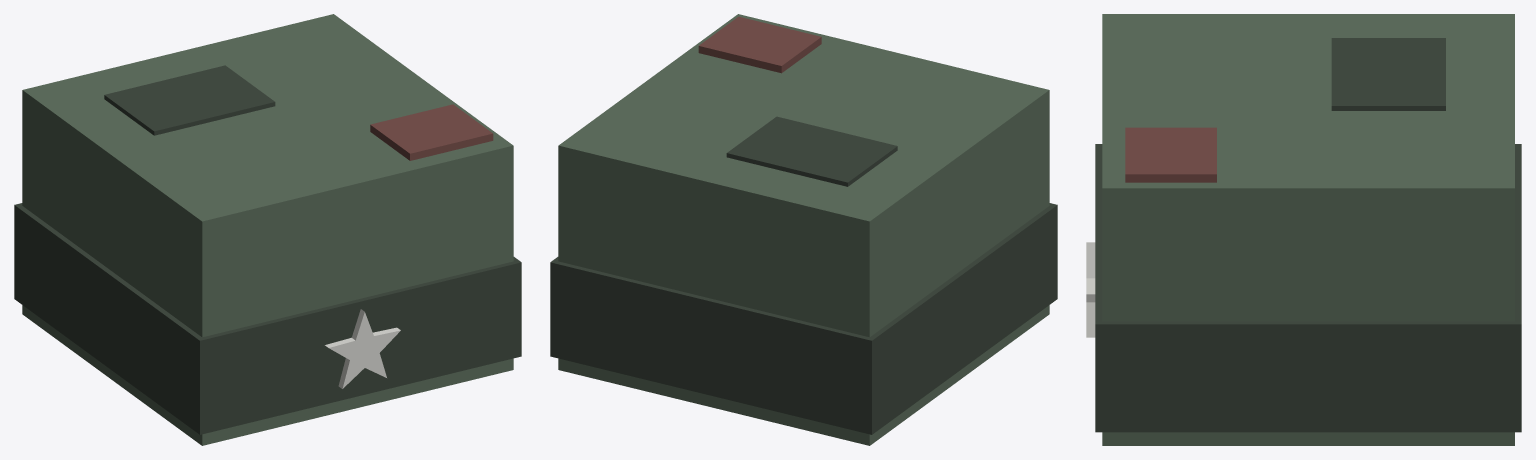
The model's file is oc_military_crate.obj.
3 views of the same model, side by side, from view 1: azimuth 30°, elevation 25°; view 2: azimuth 150°, elevation 25°; view 3: azimuth 270°, elevation 25° (orthographic). The views are drawn at different scales.
Visible parts, largest first — view 1: oc_military_crate_0, oc_military_crate_1, oc_military_crate_3, oc_military_crate_4, oc_military_crate_2; view 2: oc_military_crate_0, oc_military_crate_1, oc_military_crate_3, oc_military_crate_4; view 3: oc_military_crate_0, oc_military_crate_1, oc_military_crate_3, oc_military_crate_4, oc_military_crate_2.
Boxes of the visible parts, box(x1,y1,x2,y2) form: oc_military_crate_0: box(22, 14, 513, 445); oc_military_crate_1: box(14, 203, 521, 434); oc_military_crate_3: box(104, 65, 275, 135); oc_military_crate_4: box(370, 104, 493, 160); oc_military_crate_2: box(325, 309, 400, 388); oc_military_crate_0: box(558, 14, 1049, 445); oc_military_crate_1: box(550, 203, 1057, 434); oc_military_crate_3: box(726, 116, 897, 186); oc_military_crate_4: box(698, 16, 821, 73); oc_military_crate_0: box(1102, 14, 1514, 445); oc_military_crate_1: box(1095, 144, 1521, 432); oc_military_crate_3: box(1331, 38, 1445, 110); oc_military_crate_4: box(1125, 127, 1216, 182); oc_military_crate_2: box(1086, 242, 1095, 337).
Size of the model in its own units: 0.93 by 0.64 by 0.95.
